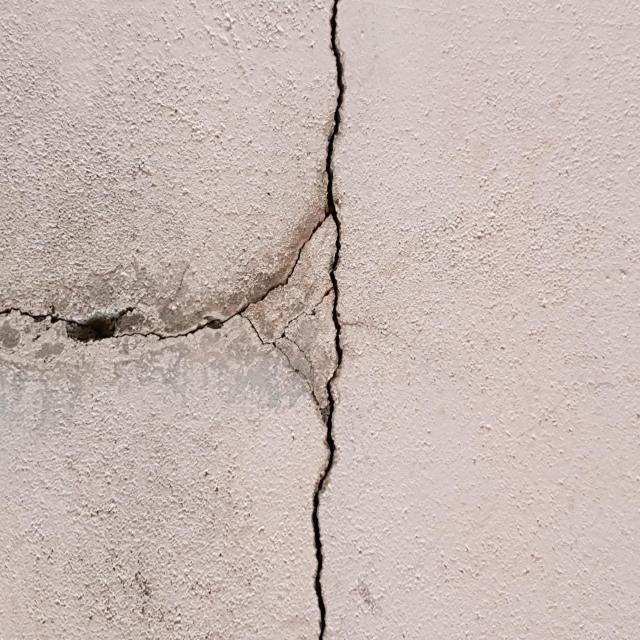SurfaceCrack: (220, 1, 393, 639)
